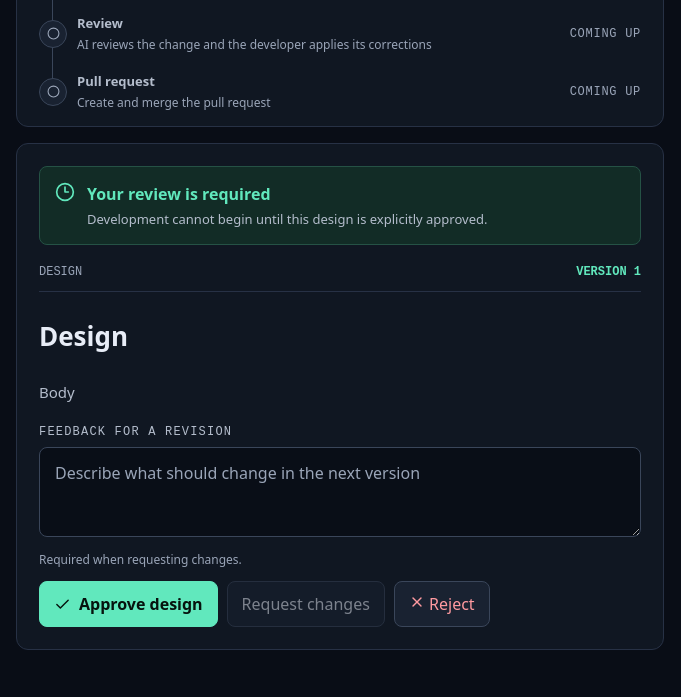
WorkflowDetailPage actions › shows the API error when "Approve design" fails and re-enables actions
The width and height of the screenshot is (681, 697).
(page scrolled)
Click the button "Approve design".
click(128, 604)  # box [39,581,218,627]
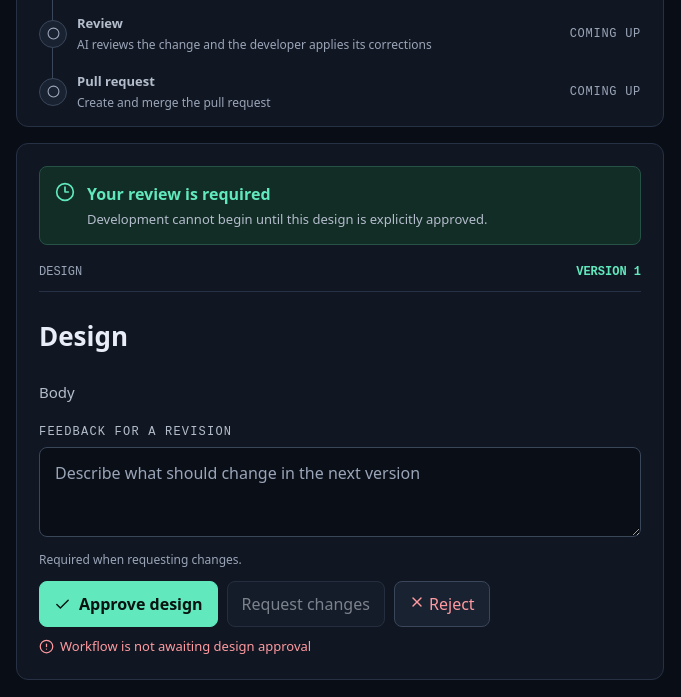
Result: the message reads "Workflow is not awaiting design approval" at [60,637,311,655]
